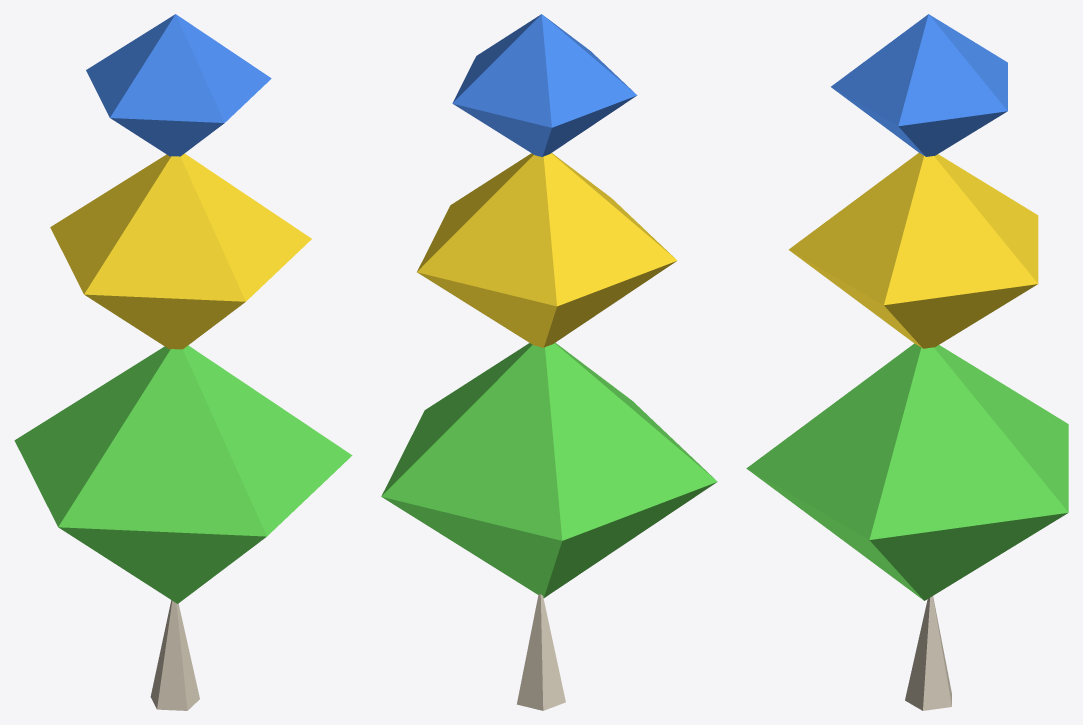
Rendered from land_tree_toy_stack_green_far.glb.
3 views of the same model, side by side, from view 1: azimuth 30°, elevation 25°; view 2: azimuth 150°, elevation 25°; view 3: azimuth 270°, elevation 25° (orthographic).
Size of the model in its own units: 3.71 by 8.28 by 3.53.
